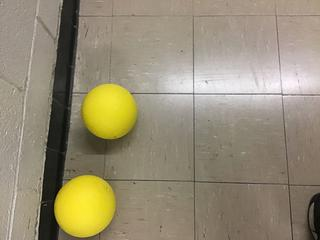power_cell: (45, 172, 125, 239), (79, 85, 148, 141)
